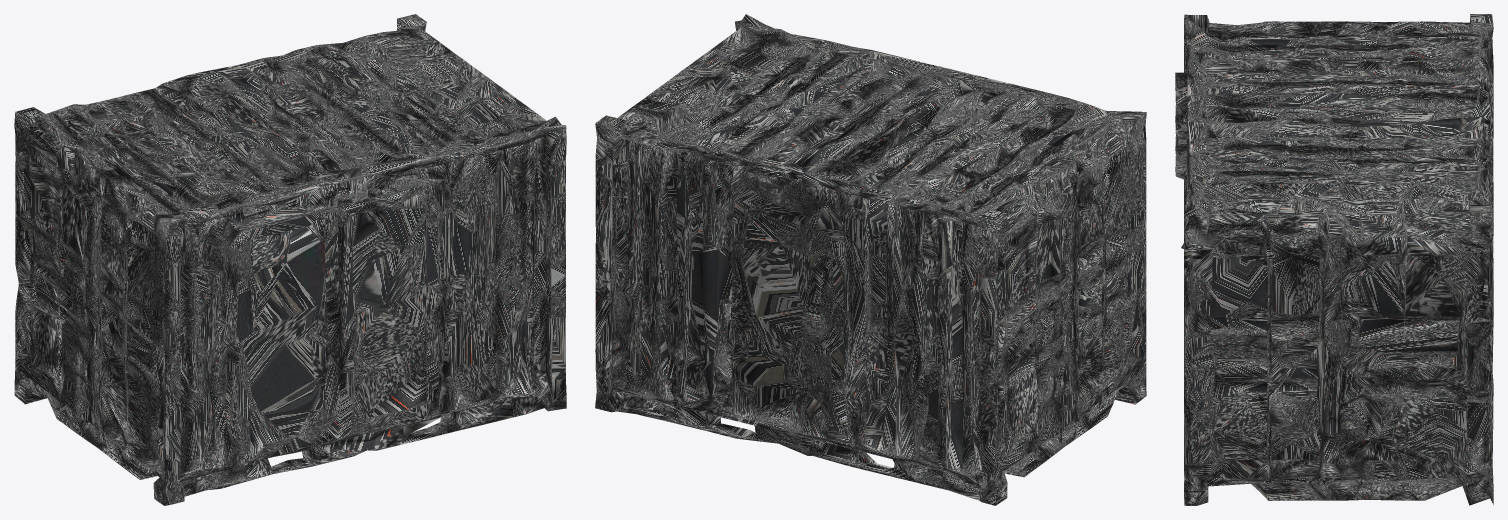
Rendered from aura_hoops_3d_blacktopContainer.84ed1f44.glb.
The picture shows the model from 3 angles, left to right: view 1: azimuth 30°, elevation 25°; view 2: azimuth 150°, elevation 25°; view 3: azimuth 270°, elevation 25°; orthographic projection. The views are drawn at different scales.
Size of the model in its own units: 1.89 by 1.28 by 1.26.
Materials: 1 (1 with a texture image).
